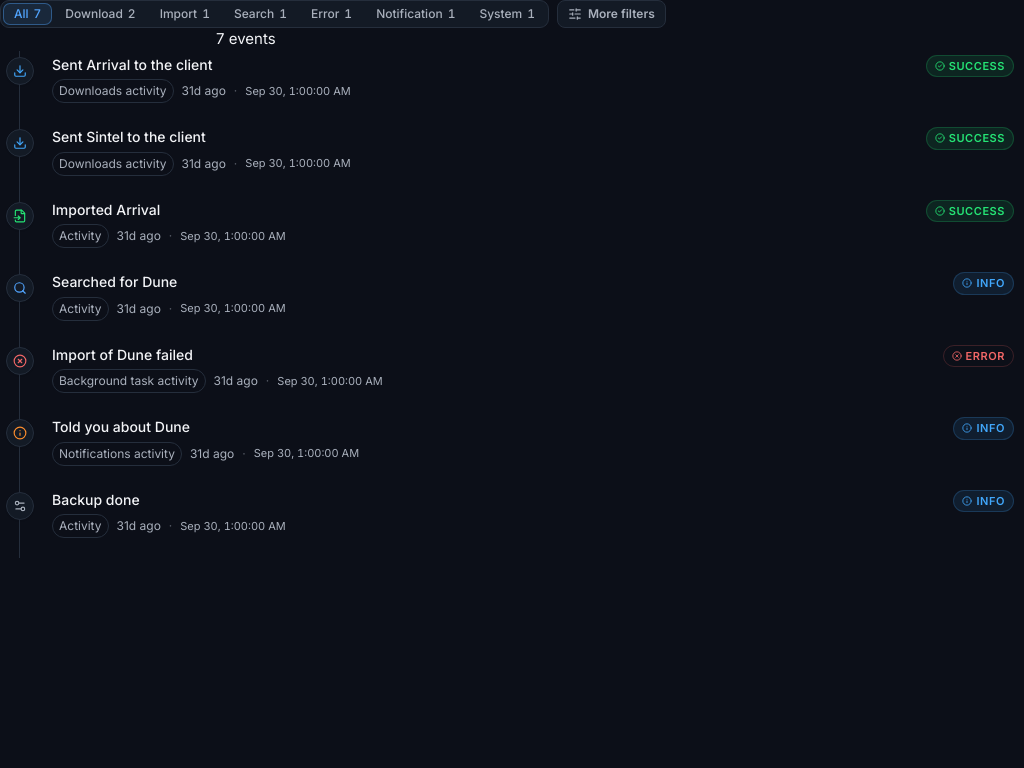
Test: System timeline chips, search and counts (#1329) › the severity picker narrows to the chosen severity
Click the button "More filters": (611, 14) [557,0,666,28]
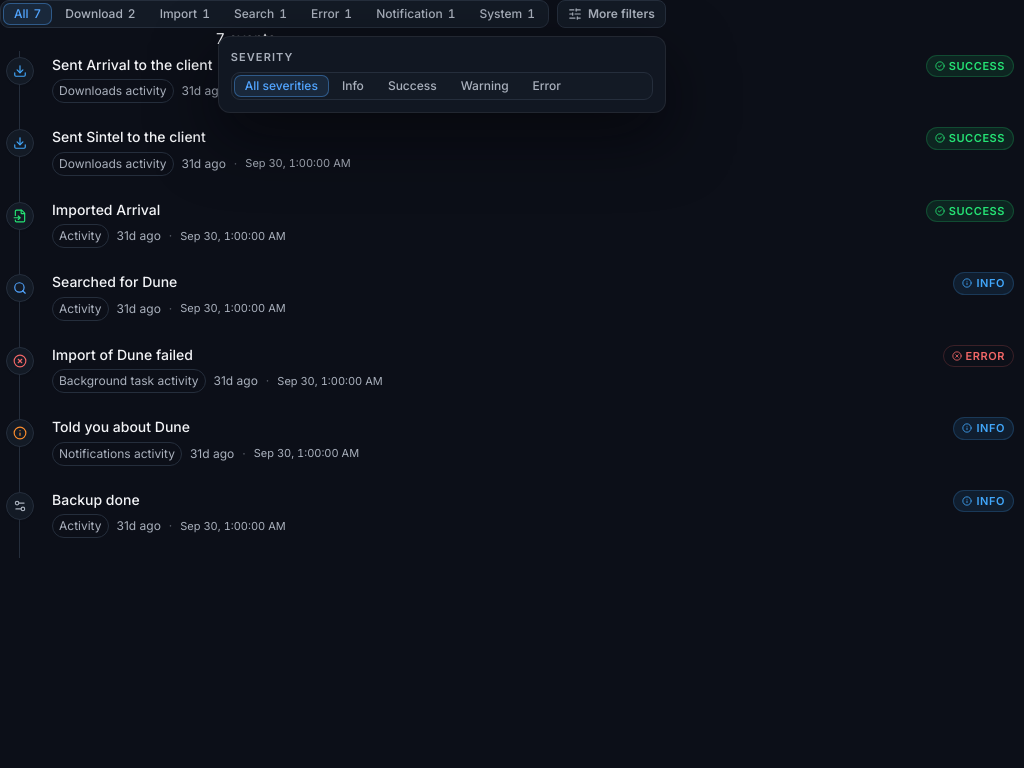
Click the radio button labelled "Error": (547, 86) [522,74,572,96]
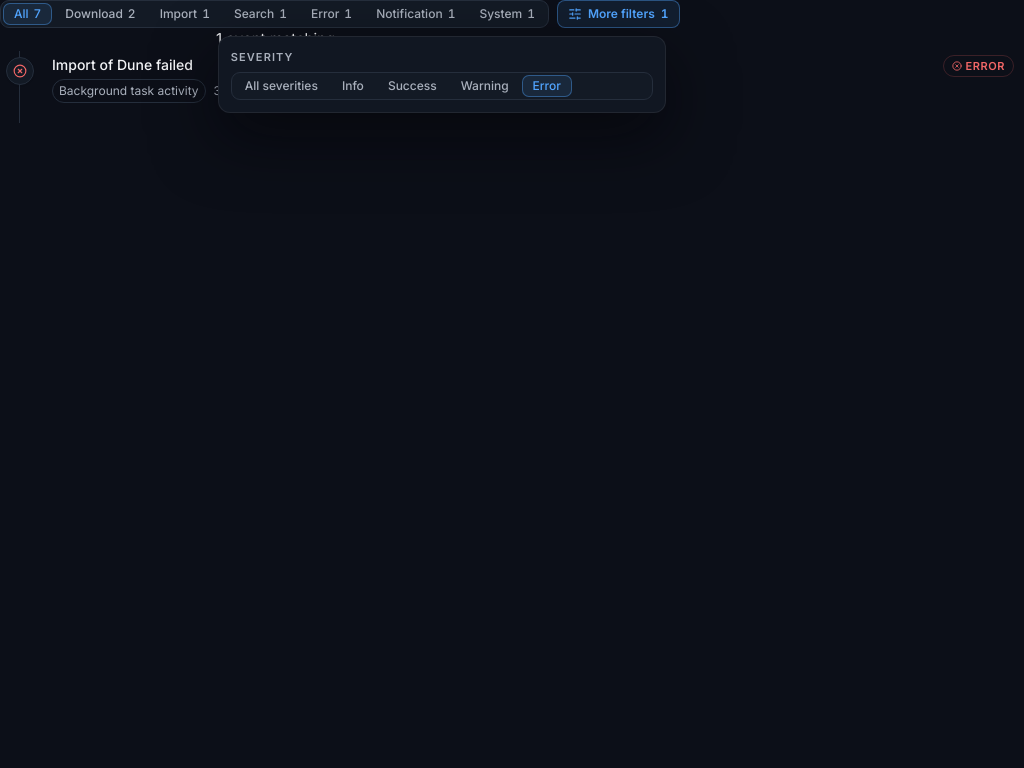
Expected: the text named "count" reads "1 event matching", [216,29,335,48]
